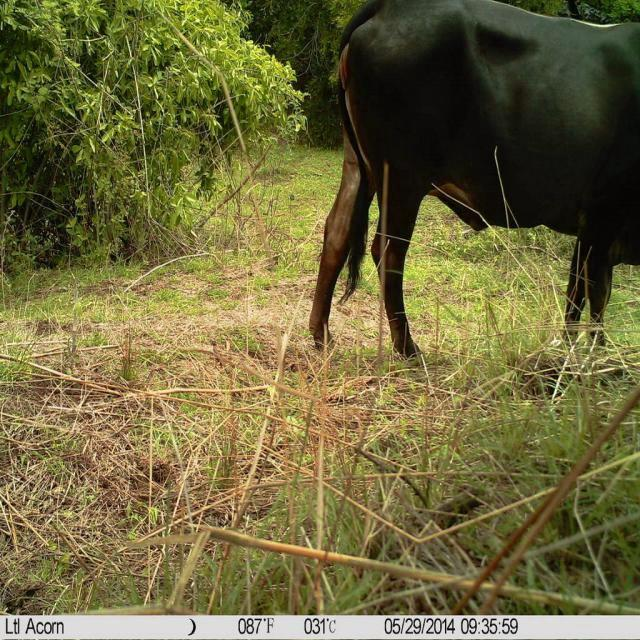cow: (309, 0, 640, 356)
